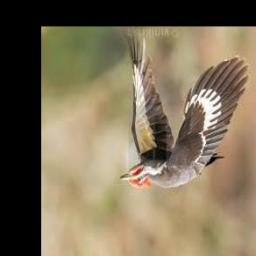Woodpecker: (120, 37, 249, 189)
